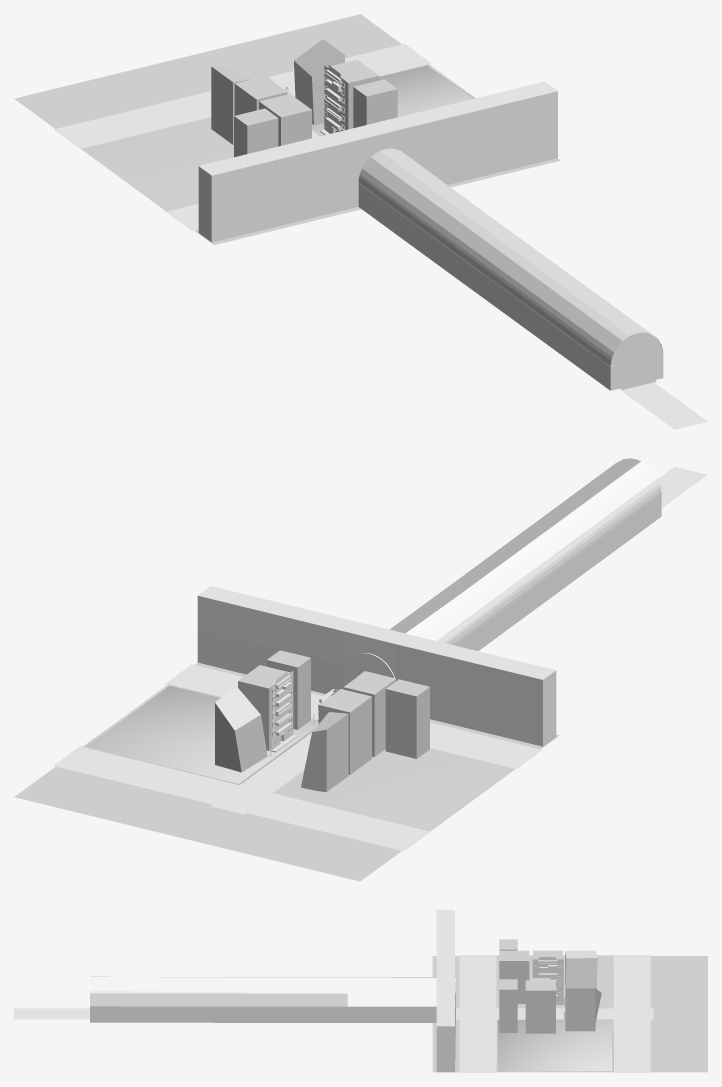
Rendered from Interseccion.glb.
3 views of the same model, one above another, from view 1: azimuth 30°, elevation 25°; view 2: azimuth 150°, elevation 25°; view 3: azimuth 270°, elevation 25° (orthographic). The views are drawn at different scales.
Visible parts, largest first — view 1: Tunel 1.002-col, Plane-convcol, Cube.001-col, Cube-convcol, Plane.004-convcol, Tunel 1.001-col, Plane.005-convcol, Plane.003-convcol, Cube.012-convcol, Cube.003-convcol, Cube.009-convcol, Cube.010-convcol (+6 smaller); view 2: Tunel 1.002-col, Plane-convcol, Cube.001-col, Cube-convcol, Plane.004-convcol, Plane.005-convcol, Plane.003-convcol, Tunel 1.001-col, Plane.001-convcol, Cube.012-convcol, Cube.010-convcol, Cube.011-convcol (+6 smaller); view 3: Tunel 1.002-col, Plane-convcol, Plane.003-convcol, Plane.001-convcol, Plane.005-convcol, Cube.001-col, Cube.007-convcol, Cube.012-convcol, Cube.003-convcol, Plane.004-convcol, Cube.011-convcol, Cube.008-convcol (+3 smaller).
Part boxes in pixels (x1,y1,x2,y2): Tunel 1.002-col: (358, 148, 663, 379); Plane-convcol: (14, 14, 560, 244); Cube.001-col: (345, 81, 557, 184); Cube-convcol: (198, 130, 360, 242); Plane.004-convcol: (81, 117, 233, 211); Tunel 1.001-col: (358, 183, 621, 390); Plane.005-convcol: (53, 44, 431, 149); Plane.003-convcol: (294, 64, 474, 136); Cube.012-convcol: (294, 39, 344, 125); Cube.003-convcol: (210, 89, 707, 429); Cube.009-convcol: (353, 79, 397, 127); Cube.010-convcol: (234, 108, 278, 157); Tunel 1.002-col: (343, 458, 661, 689); Plane-convcol: (14, 662, 559, 881); Cube.001-col: (197, 586, 409, 695); Cube-convcol: (394, 634, 556, 746); Plane.004-convcol: (273, 748, 514, 831); Plane.005-convcol: (53, 746, 430, 851); Plane.003-convcol: (84, 684, 318, 784); Tunel 1.001-col: (454, 493, 661, 650); Plane.001-convcol: (165, 664, 541, 769); Cube.012-convcol: (215, 686, 267, 772); Cube.010-convcol: (385, 679, 429, 758); Cube.011-convcol: (301, 712, 348, 791); Tunel 1.002-col: (90, 976, 455, 1022); Plane-convcol: (432, 956, 707, 1072); Plane.003-convcol: (496, 1019, 613, 1071); Plane.001-convcol: (459, 955, 497, 1072); Plane.005-convcol: (613, 955, 650, 1072); Cube.001-col: (436, 959, 455, 1072); Cube.007-convcol: (525, 980, 555, 1033); Cube.012-convcol: (565, 988, 601, 1031); Cube.003-convcol: (14, 1008, 653, 1019); Plane.004-convcol: (496, 955, 613, 1008); Cube.011-convcol: (565, 950, 597, 988); Cube.008-convcol: (499, 950, 529, 1003).
Bounding box in the file's own units: 72.74 × 14.81 × 181.
Materials: 5 (2 with a texture image).
